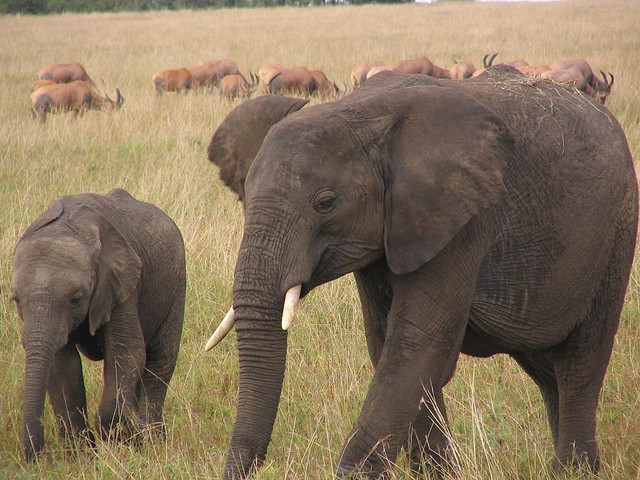elephant: (198, 58, 640, 478), (3, 174, 191, 480)
